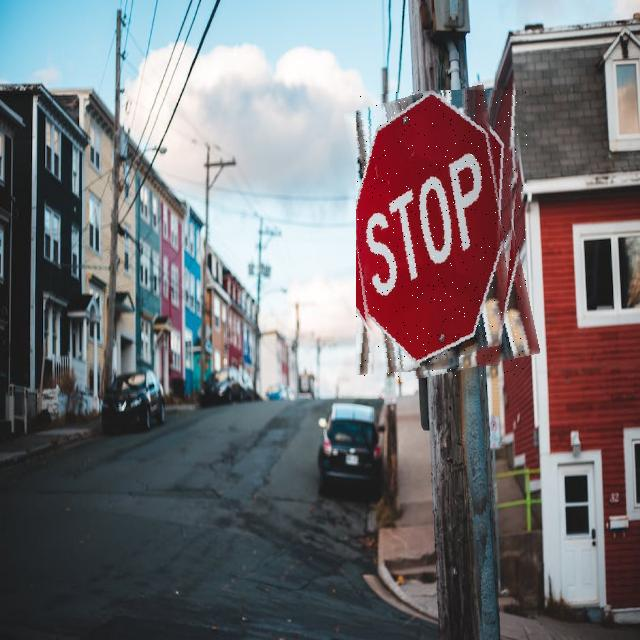stop: (356, 90, 527, 377)
